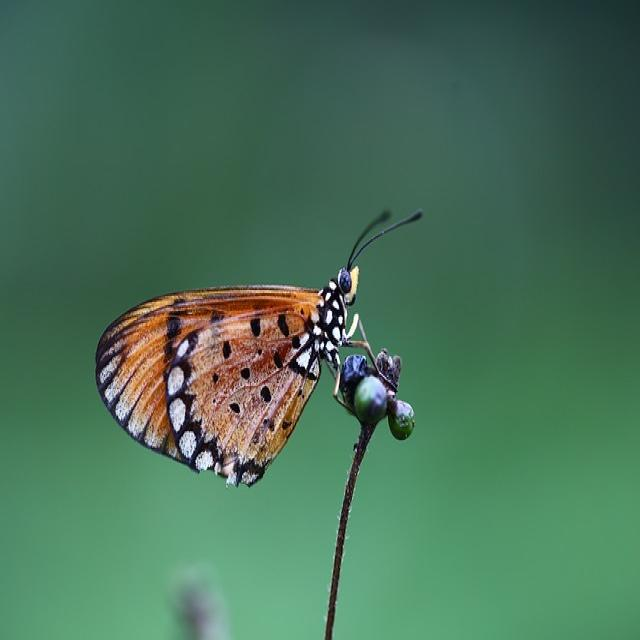butterfly: (95, 210, 423, 488)
